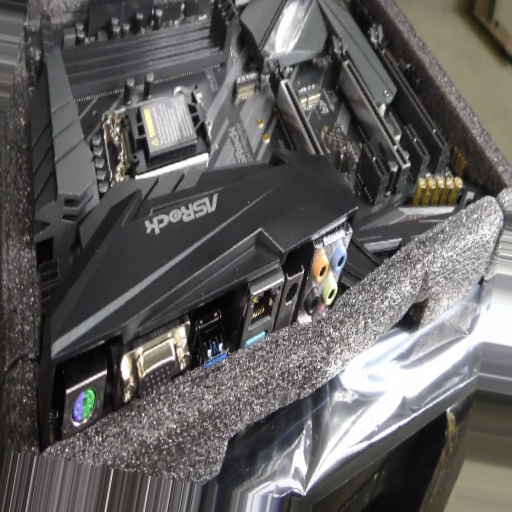CPU: (106, 92, 220, 173)
GPU: (331, 37, 411, 181), (370, 30, 453, 166), (265, 57, 326, 155)
MOTHERBOARD: (17, 5, 490, 440)
RAM: (37, 1, 238, 82)
SSD: (230, 73, 266, 96), (296, 82, 329, 107)
